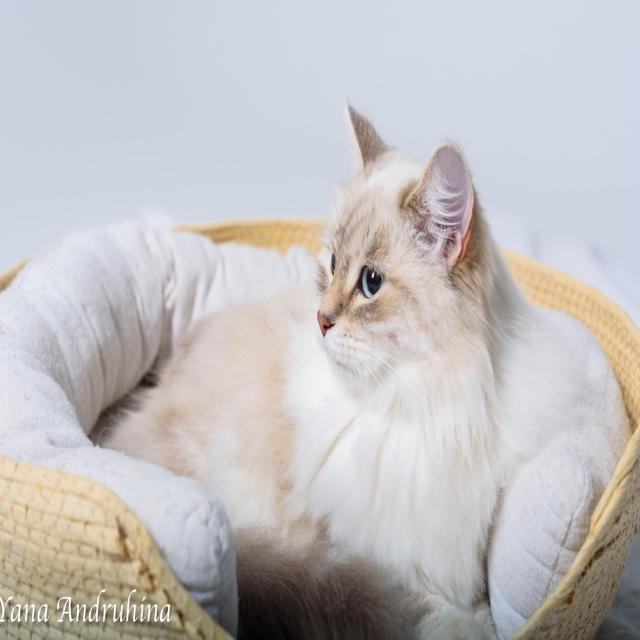Neva Masquerade: (93, 95, 519, 640)
